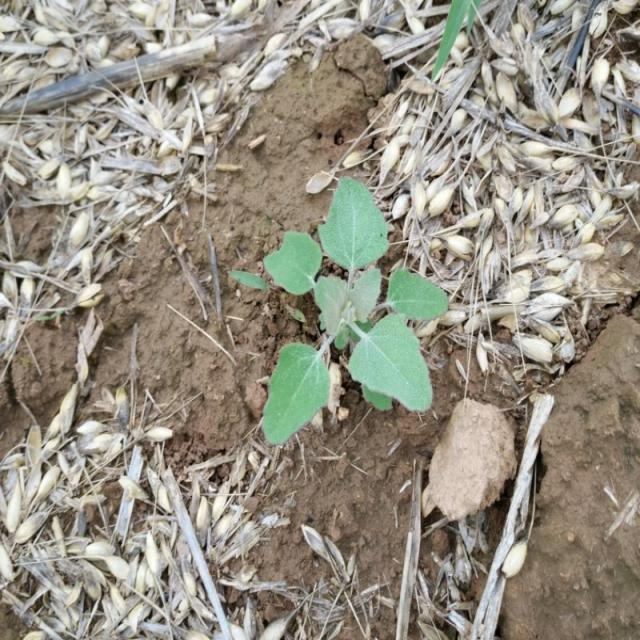goosefoots: (247, 161, 438, 475)
